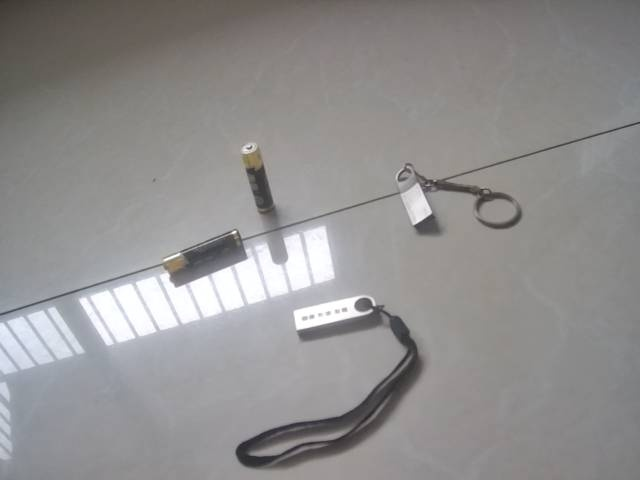U-disk: (233, 293, 425, 468), (393, 161, 523, 234)
battery: (160, 229, 248, 279), (238, 140, 279, 215)
